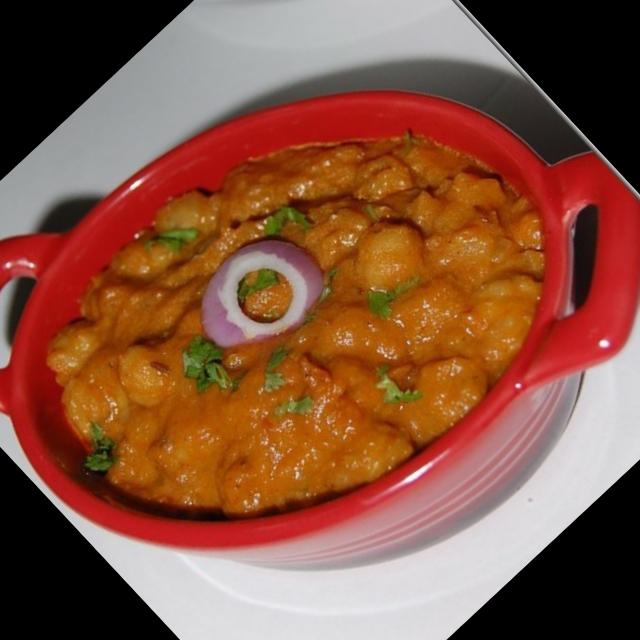Chole: (0, 18, 607, 620)
